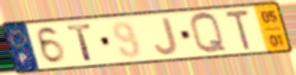6: (35, 26, 68, 65)
9: (112, 20, 142, 60)
J: (153, 16, 180, 57)
Q: (188, 11, 230, 56)
T: (223, 8, 254, 53), (64, 22, 94, 63)
